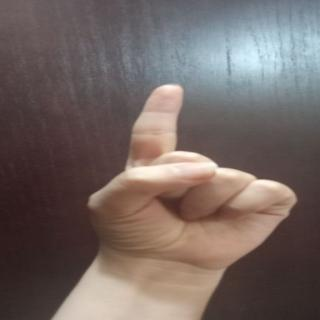BAA: (72, 76, 315, 264)
